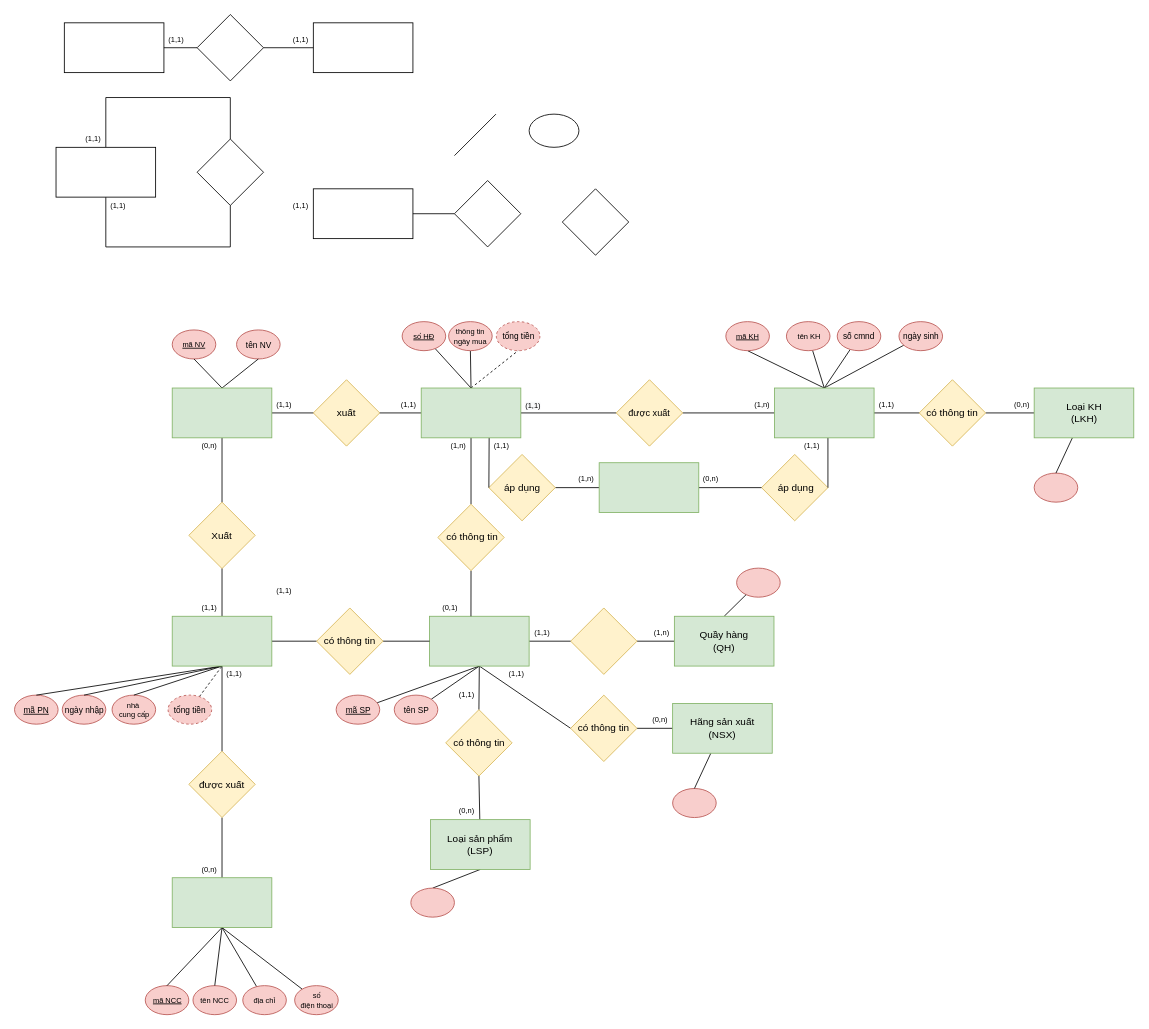
This 1149x1029 diagram has some shape labels left out. The shapes that lost their labels are listed below. From the top down, each one's box as (x1, y1, x2, y2) in pixels, then its label:
(171, 387, 272, 438): Nhân viên (NV)
(420, 387, 521, 438): Hoá đơn (HĐ)
(774, 387, 874, 438): Khách hàng (KH)
(598, 462, 699, 513): Chính sách ưu đãi (CSUĐ)
(1033, 472, 1078, 502): mã LKH
(736, 567, 780, 597): mã QH
(171, 615, 272, 666): Phiếu nhập (PN)
(429, 615, 529, 666): Sản phẩm (SP)
(570, 607, 637, 674): được bố trí
(672, 788, 716, 818): mã NSX
(171, 877, 272, 928): Nhà cung cấp (NCC)
(410, 887, 454, 917): mã loại SP
